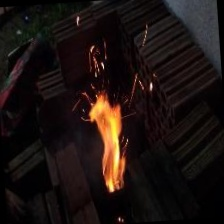fire: (79, 65, 142, 191)
